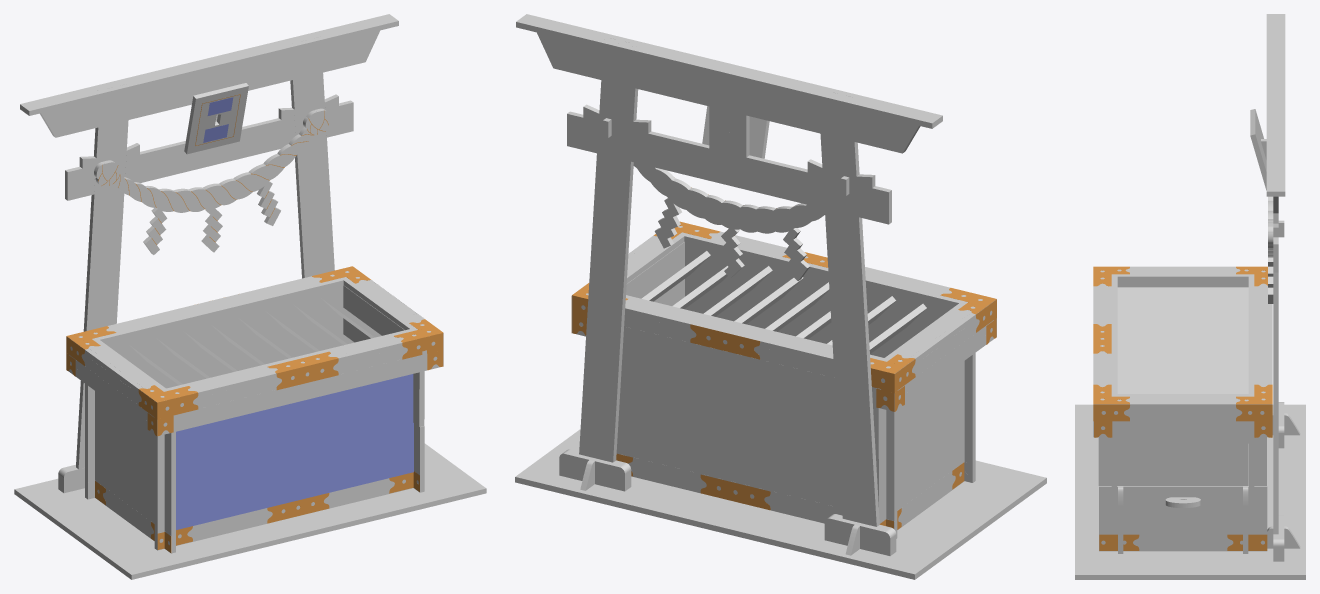
File: saisenglb.glb
3 renders of one model, left to right at view 1: azimuth 30°, elevation 25°; view 2: azimuth 150°, elevation 25°; view 3: azimuth 270°, elevation 25°, orthographic. The views are drawn at different scales.
Visible parts, largest first — view 1: 本体.007, 刻印３(大きな文字), 本体, 本体.003, 茶色, 本体.002, 本体.027, 本体.025, 本体.004, 本体.024, 本体.005, 本体.034 (+2 smaller); view 2: 本体.007, 本体, 本体.003, 本体.002, 本体.027, 本体.025, 本体.024, 茶色, 本体.034, 本体.037, 本体.009, 本体.008 (+2 smaller); view 3: 本体.007, 本体.002, 本体.038, 本体.003, 本体.037, 茶色, 本体.033, 本体.024, 本体.027, 本体.005, 本体.025, 本体.010 (+5 smaller).
Part boxes in pixels (left/top/right/bottom): 本体.007: left=14, top=30, right=486, bottom=579; 刻印３(大きな文字): left=176, top=374, right=413, bottom=529; 本体: left=75, top=285, right=343, bottom=499; 本体.003: left=68, top=271, right=443, bottom=402; 茶色: left=66, top=94, right=443, bottom=552; 本体.002: left=128, top=293, right=424, bottom=550; 本体.027: left=95, top=391, right=178, bottom=553; 本体.025: left=94, top=108, right=330, bottom=254; 本体.004: left=157, top=338, right=443, bottom=435; 本体.024: left=20, top=14, right=398, bottom=115; 本体.005: left=184, top=83, right=248, bottom=154; 本体.034: left=69, top=346, right=157, bottom=433; 本体.007: left=515, top=32, right=1046, bottom=579; 本体: left=616, top=345, right=907, bottom=538; 本体.003: left=572, top=226, right=996, bottom=411; 本体.002: left=641, top=242, right=986, bottom=482; 本体.027: left=872, top=361, right=964, bottom=529; 本体.025: left=633, top=162, right=824, bottom=280; 本体.024: left=516, top=14, right=942, bottom=128; 茶色: left=571, top=187, right=996, bottom=529; 本体.034: left=894, top=310, right=996, bottom=409; 本体.037: left=626, top=242, right=684, bottom=305; 本体.009: left=824, top=518, right=890, bottom=555; 本体.008: left=559, top=453, right=624, bottom=491; 本体.007: left=1075, top=48, right=1305, bottom=579; 本体.002: left=1111, top=287, right=1248, bottom=489; 本体.038: left=1099, top=484, right=1267, bottom=551; 本体.003: left=1093, top=266, right=1272, bottom=437; 本体.037: left=1098, top=437, right=1266, bottom=485; 茶色: left=1093, top=266, right=1272, bottom=550; 本体.033: left=1093, top=402, right=1267, bottom=437; 本体.024: left=1266, top=14, right=1285, bottom=196; 本体.027: left=1117, top=281, right=1248, bottom=287; 本体.005: left=1250, top=109, right=1266, bottom=190; 本体.025: left=1268, top=196, right=1273, bottom=303; 本体.010: left=1267, top=526, right=1300, bottom=548.
Size of the model in its own units: 156 by 163 by 85.56.
